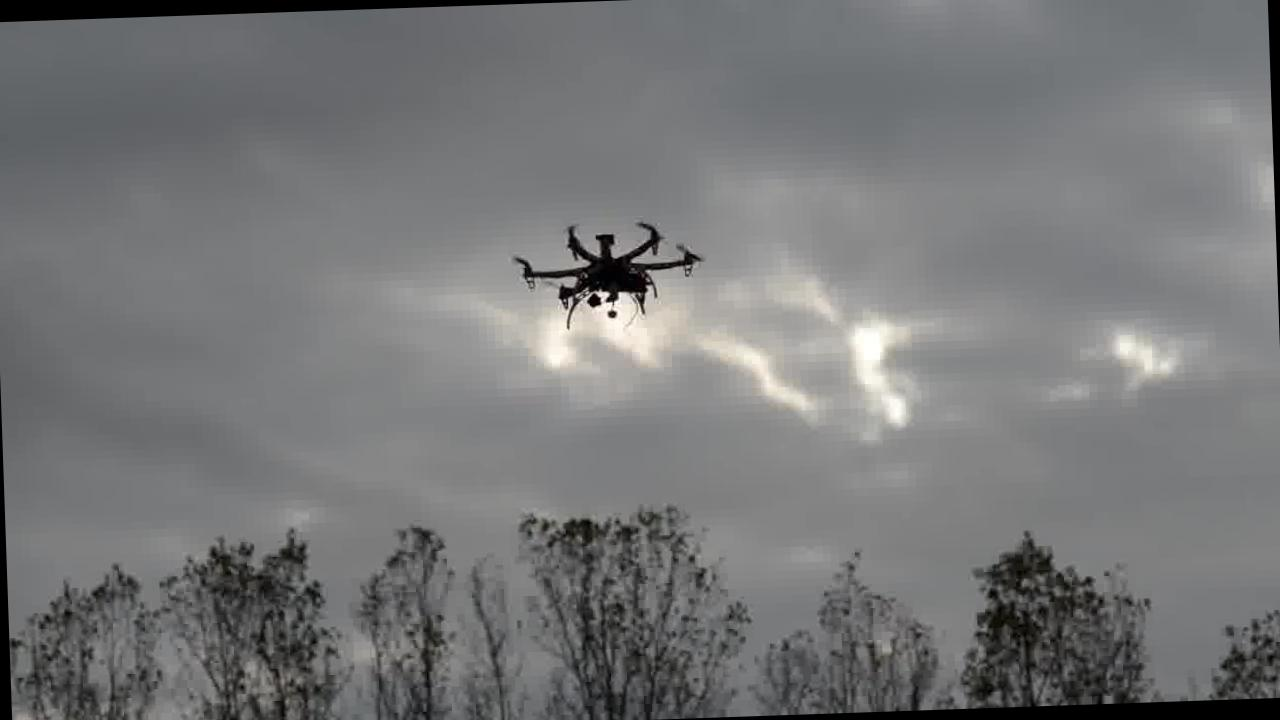drone: (512, 212, 704, 331)
